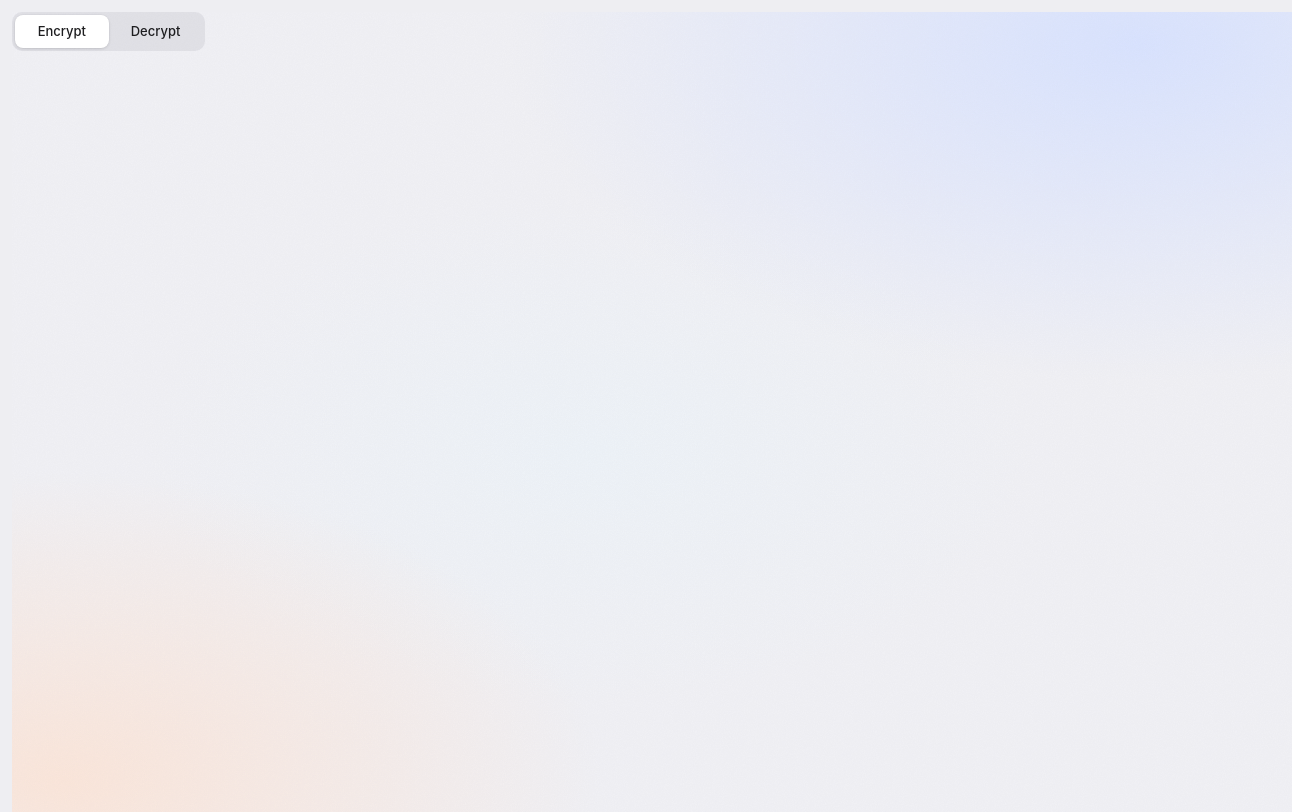
Test: SegmentedControl › selects on click
This screenshot has width=1292, height=812.
Click the radio button labelled "Decrypt": (156, 31) [109,15,202,48]
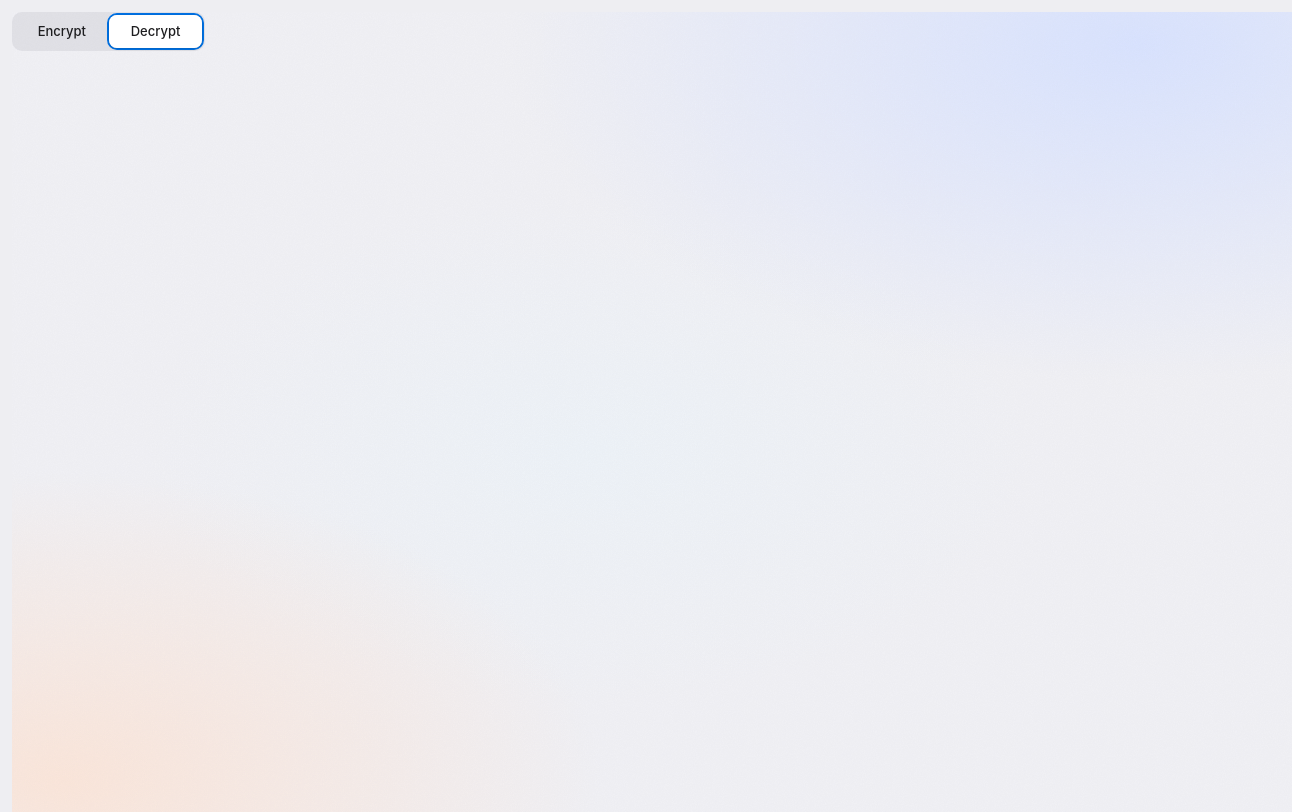
Check: the radio button labelled "Decrypt" is checked, box [109,15,202,48]
